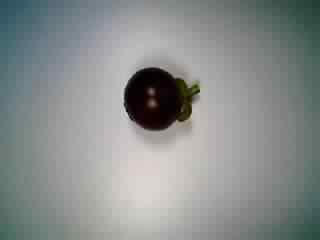mangosteen: (119, 63, 203, 137)
